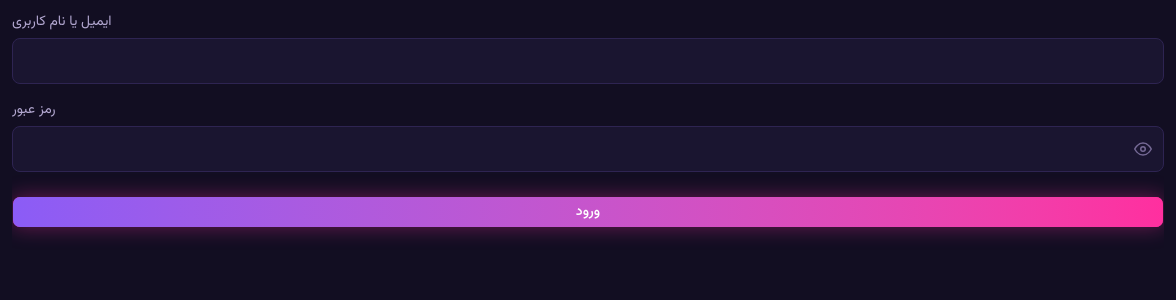
Test case: LoginForm › validation › shows validation errors when submitting empty form
Click the button "ورود": [588, 212] box [12,196,1164,228]
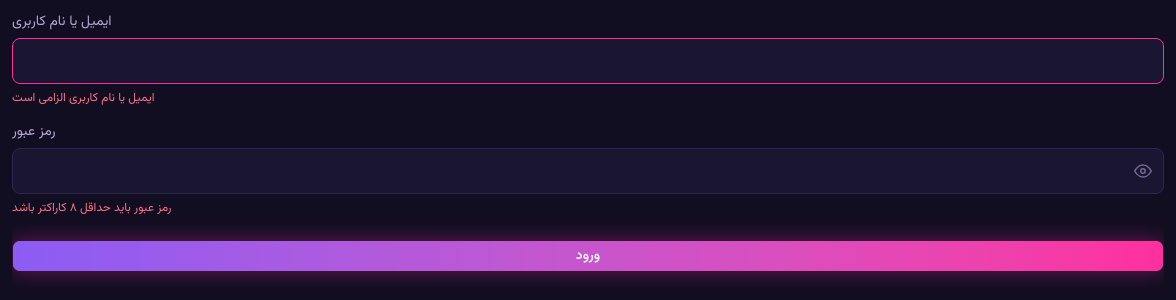
Now the text "ایمیل یا نام کاربری الزامی است" is shown, box [12,89,154,107]
Now the text "رمز عبور باید حداقل ۸ کاراکتر باشد" is shown, box [12,199,171,217]
